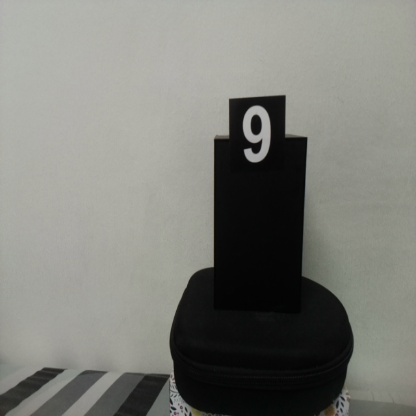id_9: (229, 100, 286, 175)
